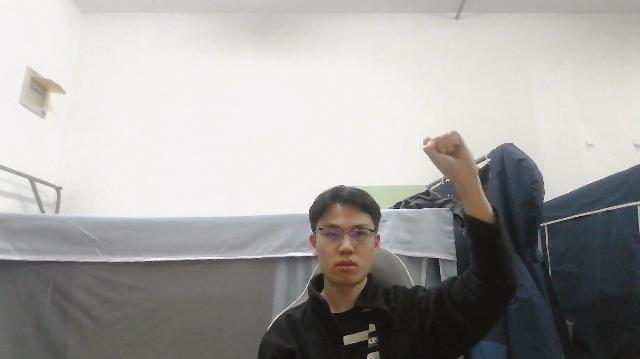ten: (419, 130, 481, 184)
